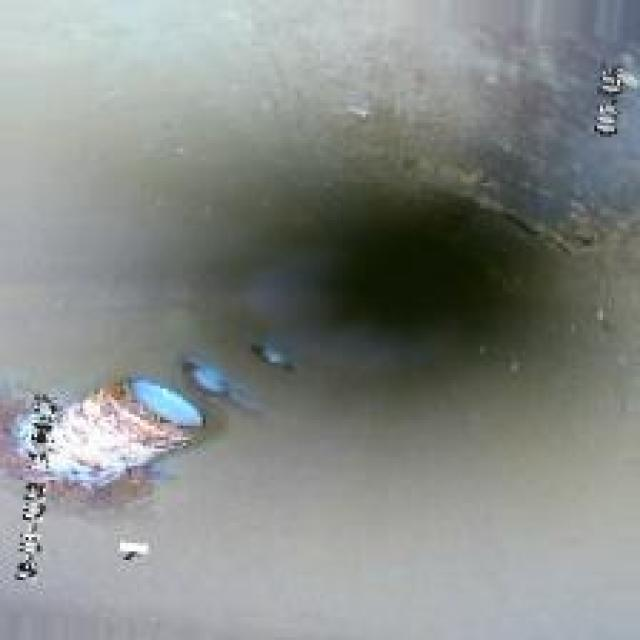ferrule: (32, 363, 217, 517), (171, 348, 246, 403), (243, 326, 297, 383)
